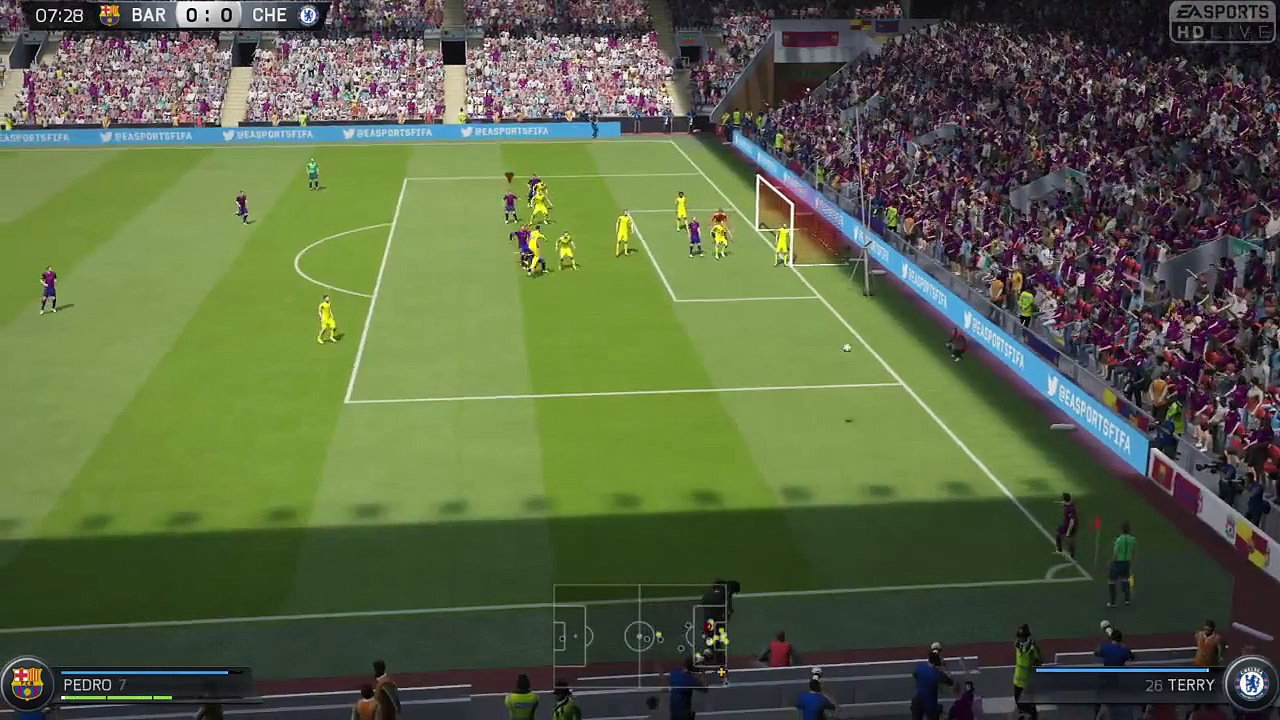ball: (841, 339, 855, 355)
goal: (746, 172, 846, 268)
player: (1054, 489, 1079, 561), (317, 294, 342, 346), (41, 264, 62, 317), (554, 231, 579, 272), (528, 189, 552, 224), (776, 221, 792, 272), (532, 227, 547, 276), (714, 219, 731, 262), (616, 209, 630, 260), (235, 186, 253, 225), (675, 190, 690, 231), (501, 188, 517, 226)
